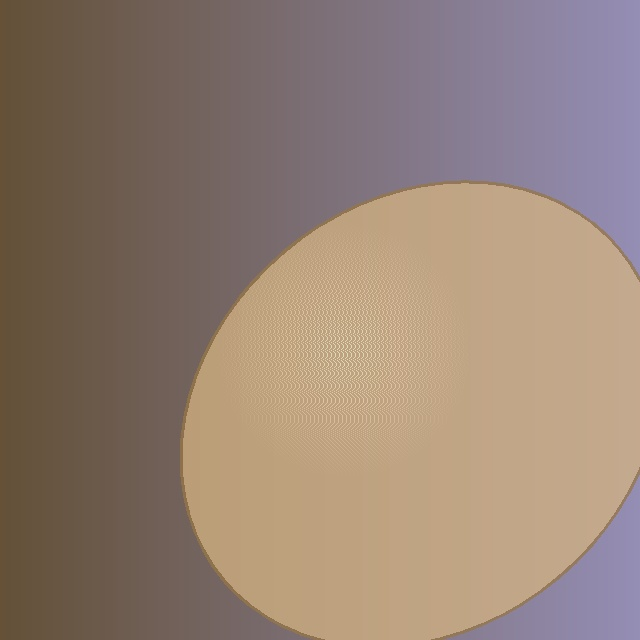lens: (181, 181, 640, 640)
